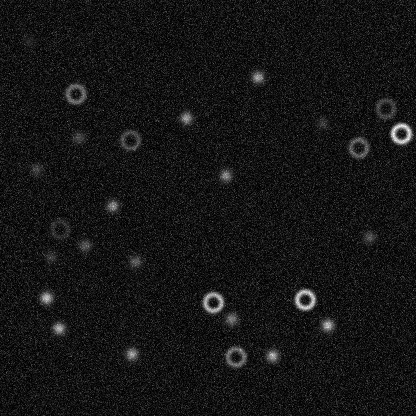Ring: (388, 121, 412, 145), (346, 135, 370, 159), (63, 81, 87, 105), (292, 287, 316, 311), (200, 290, 224, 314), (223, 344, 247, 368), (373, 96, 397, 120), (47, 217, 71, 241), (118, 128, 142, 152)
Spot: (123, 345, 139, 361), (38, 289, 54, 305), (76, 237, 92, 253), (319, 317, 335, 333), (249, 69, 265, 85), (70, 129, 86, 145), (50, 320, 66, 336), (264, 347, 280, 363), (361, 229, 377, 245), (223, 310, 239, 326), (28, 161, 44, 177), (20, 32, 36, 48), (178, 109, 194, 125), (127, 253, 143, 269), (314, 114, 330, 130), (217, 167, 233, 183), (104, 197, 120, 213), (42, 248, 58, 264)
